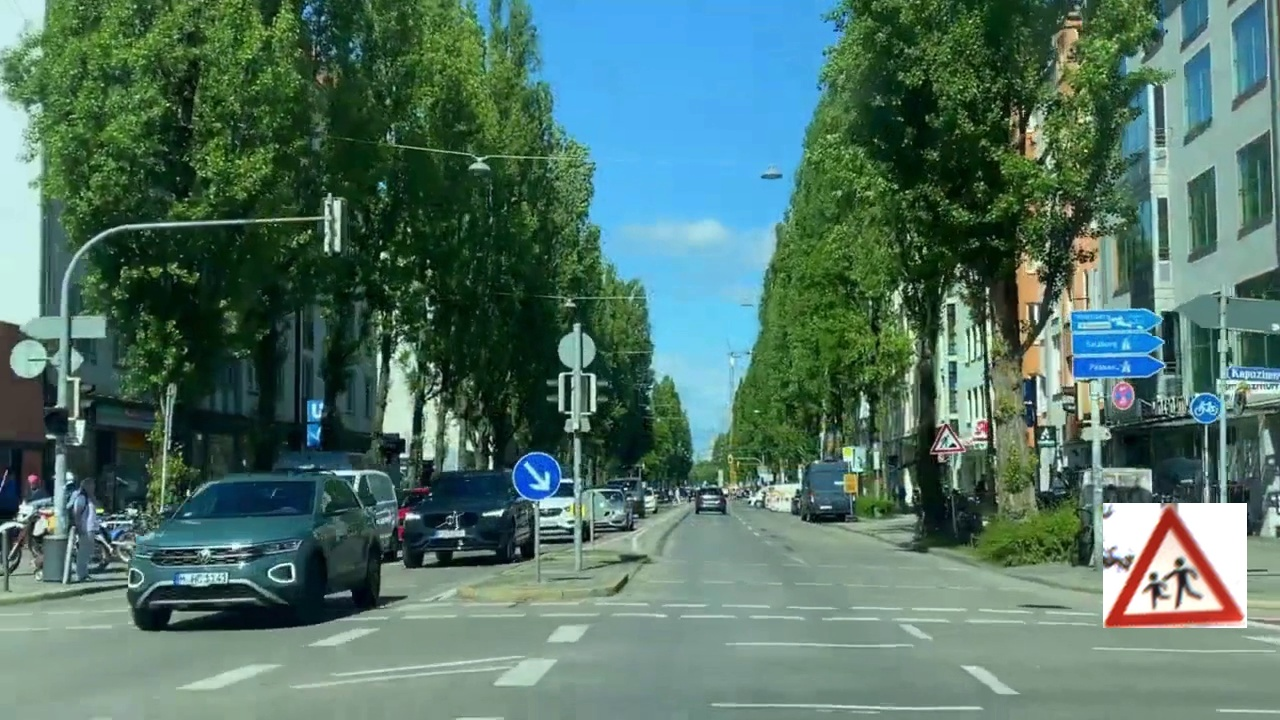Children: (1103, 503, 1247, 628)
